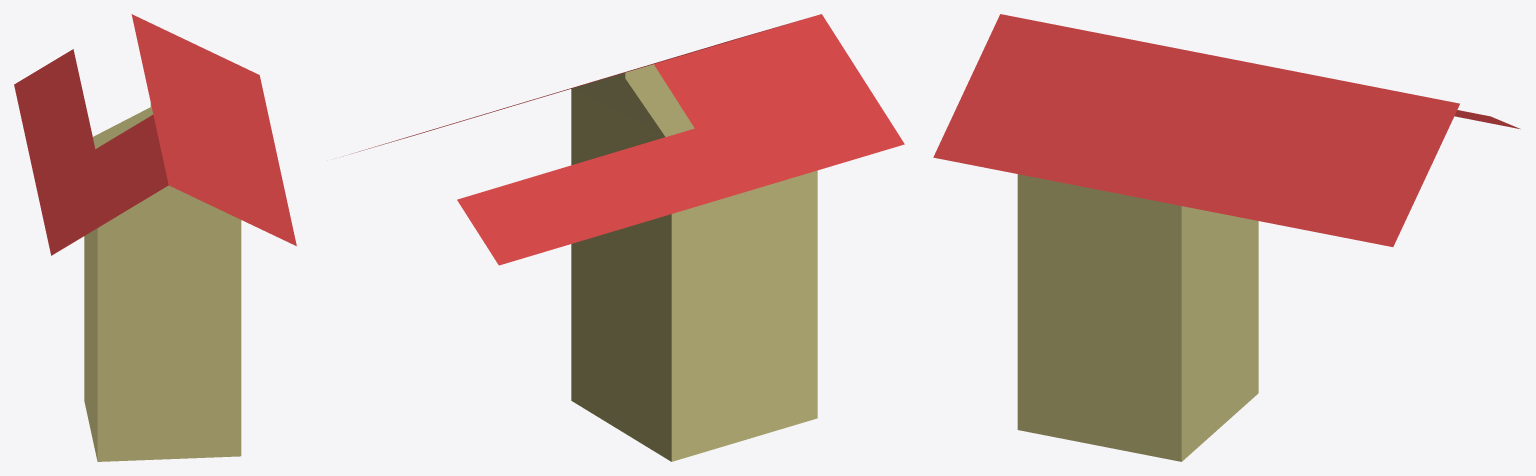
3 views of the same model, side by side, from view 1: azimuth 30°, elevation 25°; view 2: azimuth 150°, elevation 25°; view 3: azimuth 270°, elevation 25° (orthographic). The views are drawn at different scales.
Size of the model in its own units: 7.7 by 9.23 by 6.36.
